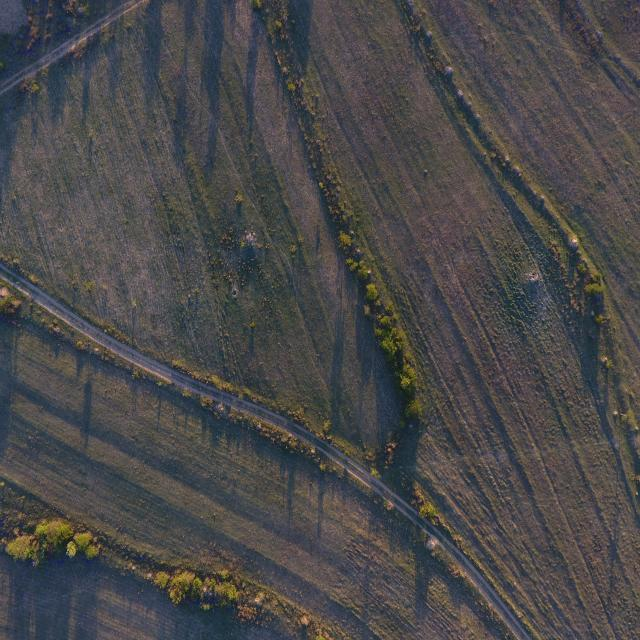boundaries: (10, 22, 519, 640)
